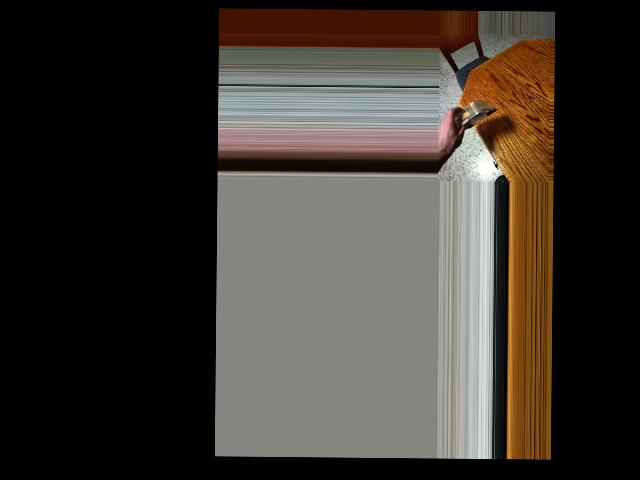cheese: (444, 88, 487, 146)
